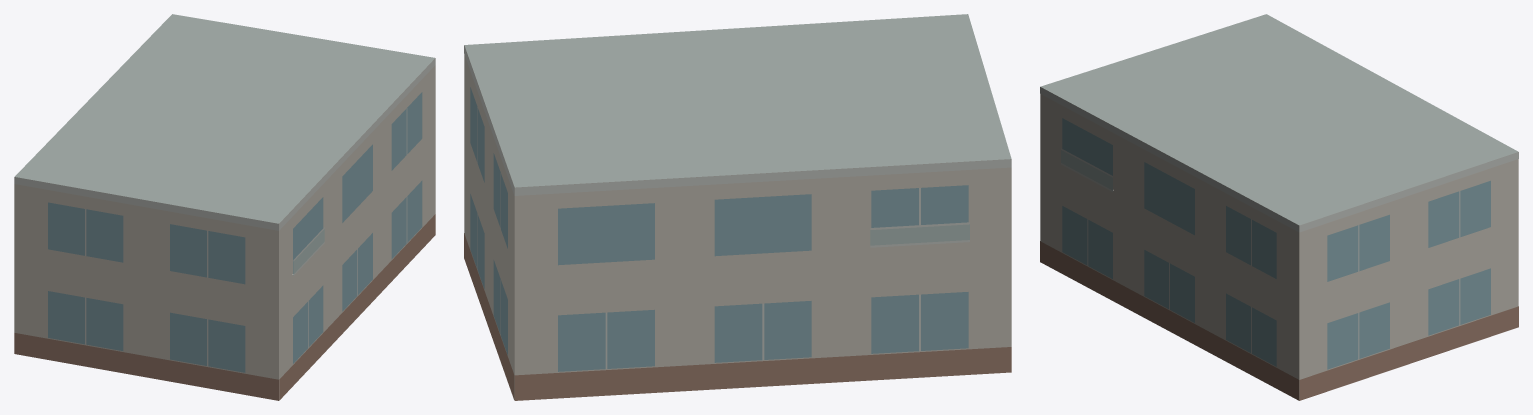
Rendered from survey-upis-32905616.glb.
3 renders of one model, left to right at view 1: azimuth 30°, elevation 25°; view 2: azimuth 150°, elevation 25°; view 3: azimuth 270°, elevation 25°, orthographic. The views are drawn at different scales.
Parts seen in each view (by area): view 1: survey-upis-32905616.tmp; view 2: survey-upis-32905616.tmp; view 3: survey-upis-32905616.tmp.
Part boxes in pixels (bbox=[...]): survey-upis-32905616.tmp: bbox=[14, 14, 435, 400]; survey-upis-32905616.tmp: bbox=[464, 14, 1011, 400]; survey-upis-32905616.tmp: bbox=[1040, 14, 1518, 400].
Size of the model in its own units: 15.79 by 6.1 by 15.1.
